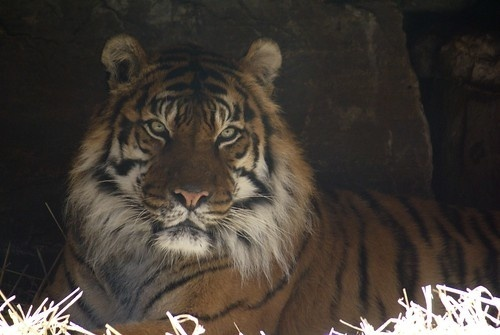tigre: (24, 31, 500, 333)
